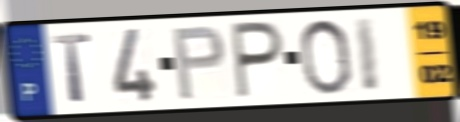4: (111, 25, 159, 106)
I: (352, 14, 382, 95)
O: (297, 17, 354, 97)
P: (229, 19, 286, 101), (170, 23, 228, 103)
T: (50, 32, 94, 105)
